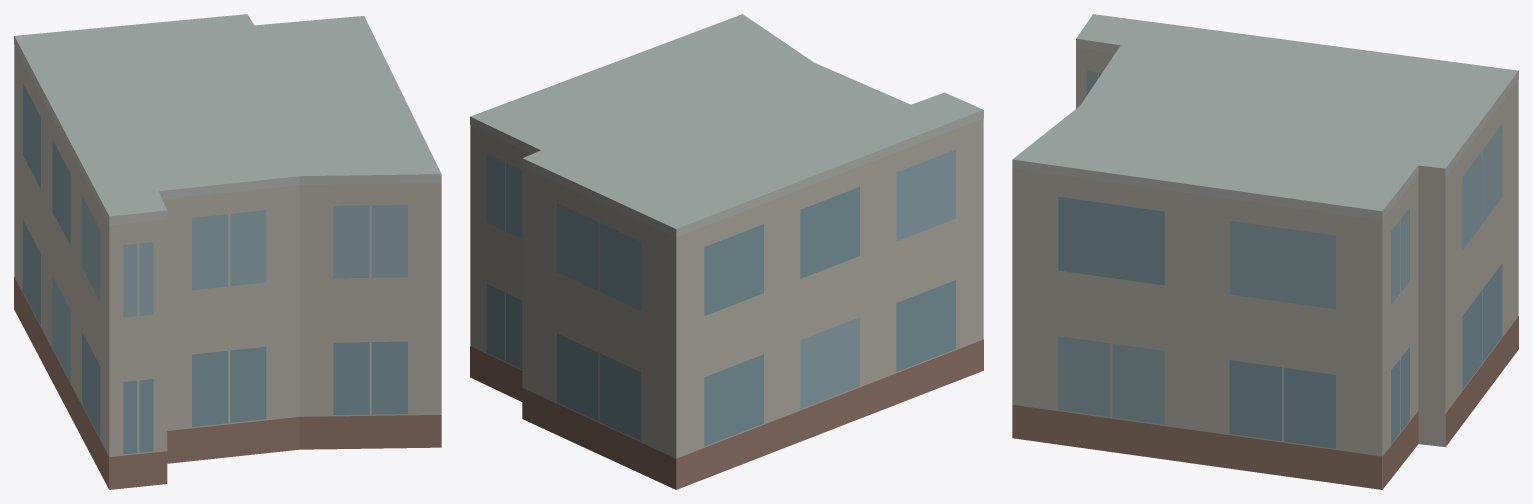
Rendered from survey-upis-33037366.glb.
3 renders of one model, left to right at view 1: azimuth 30°, elevation 25°; view 2: azimuth 150°, elevation 25°; view 3: azimuth 270°, elevation 25°, orthographic. The views are drawn at different scales.
Parts seen in each view (by area): view 1: survey-upis-33037366.tmp; view 2: survey-upis-33037366.tmp; view 3: survey-upis-33037366.tmp.
Part boxes in pixels (x1,y1,x2,y2): survey-upis-33037366.tmp: (14,14,441,489); survey-upis-33037366.tmp: (470,14,983,489); survey-upis-33037366.tmp: (1012,14,1518,489).
Size of the model in its own units: 11.55 by 7.6 by 12.53.
